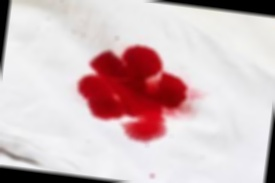blood: (71, 38, 197, 146)
